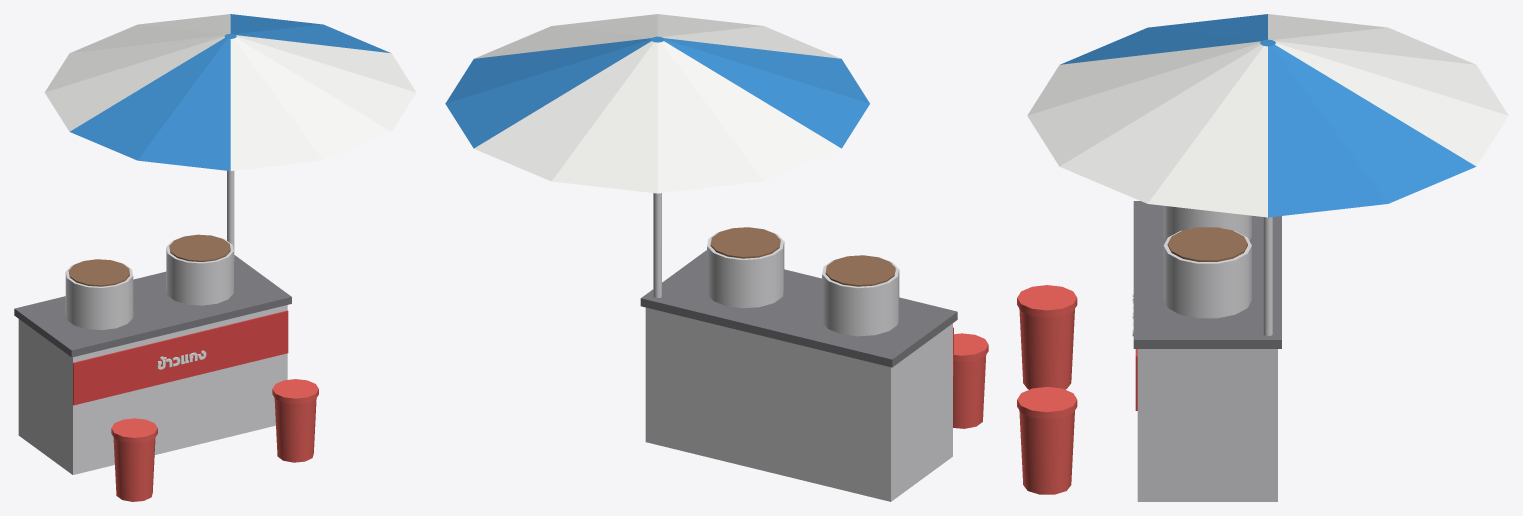
Rendered from SM_FoodStall.fbx.
3 renders of one model, left to right at view 1: azimuth 30°, elevation 25°; view 2: azimuth 150°, elevation 25°; view 3: azimuth 270°, elevation 25°, orthographic. The views are drawn at different scales.
Parts seen in each view (by area): view 1: SM_FoodStall; view 2: SM_FoodStall; view 3: SM_FoodStall.
Part boxes in pixels (x1=…): SM_FoodStall: x1=14, y1=14, x2=416, y2=501; SM_FoodStall: x1=445, y1=14, x2=988, y2=501; SM_FoodStall: x1=1017, y1=14, x2=1508, y2=501.
Size of the model in its own units: 2.77 by 2.5 by 2.45.
